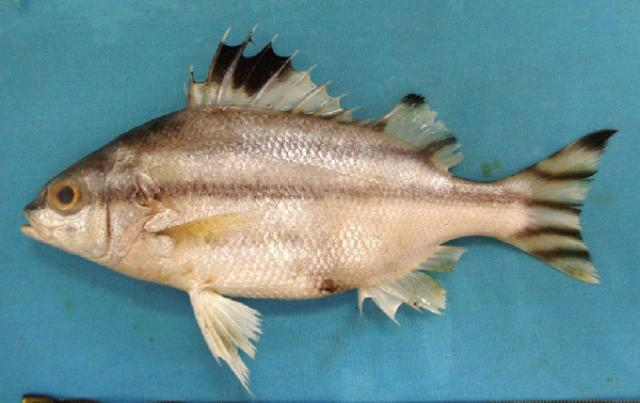Mulut: (12, 194, 50, 254)
Sirip Anal: (356, 238, 462, 324)
Sirip Dada: (149, 201, 257, 257)
Sirip Ekor: (510, 120, 624, 288)
Sirip Perut: (183, 280, 275, 402)
Sirip Punggung: (180, 20, 472, 176)
